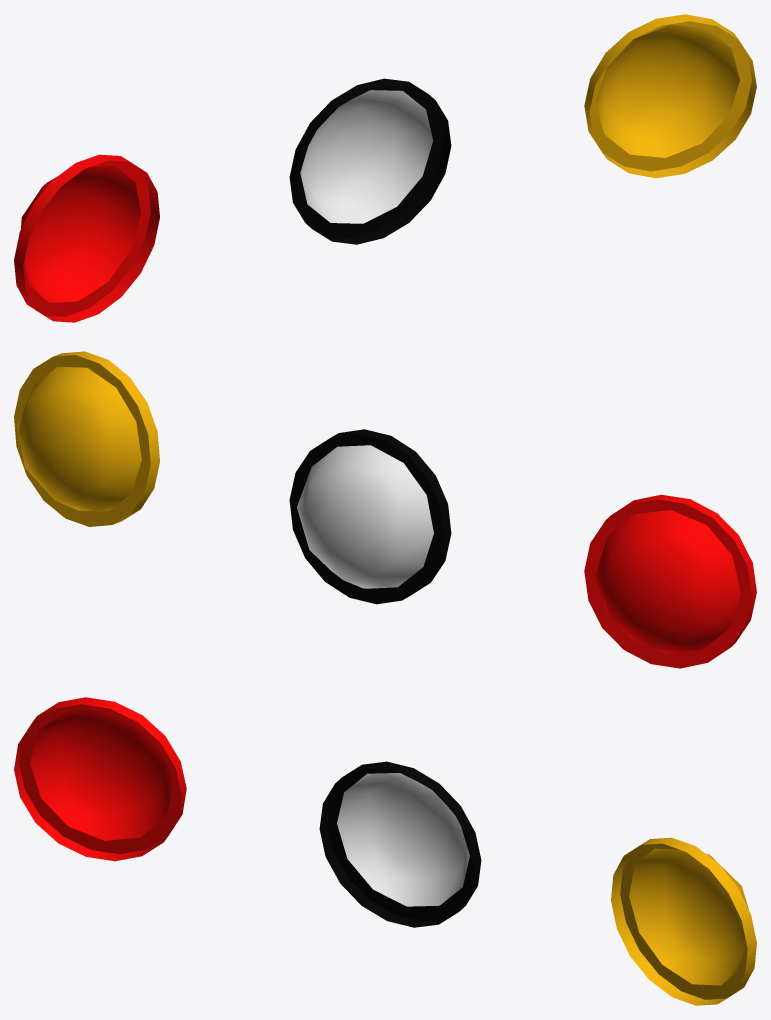
The model's file is newLucesCoche 1.fbx.
3 views of the same model, one above another, from view 1: azimuth 30°, elevation 25°; view 2: azimuth 150°, elevation 25°; view 3: azimuth 330°, elevation 25° (orthographic).
Parts seen in each view (by area): view 1: Foco1, Foco2, Foco3; view 2: Foco3, Foco2, Foco1; view 3: Foco3, Foco2, Foco1.
Boxes of the visible parts, x1,y1,x2,y2 form: Foco1: (584, 14, 756, 178); Foco2: (289, 78, 451, 244); Foco3: (14, 154, 159, 322); Foco3: (584, 494, 756, 668); Foco2: (289, 429, 451, 604); Foco1: (14, 351, 159, 526); Foco3: (14, 697, 186, 861); Foco2: (319, 761, 481, 927); Foco1: (611, 837, 756, 1005).
Size of the model in its own units: 20.2 by 4.19 by 2.28.
